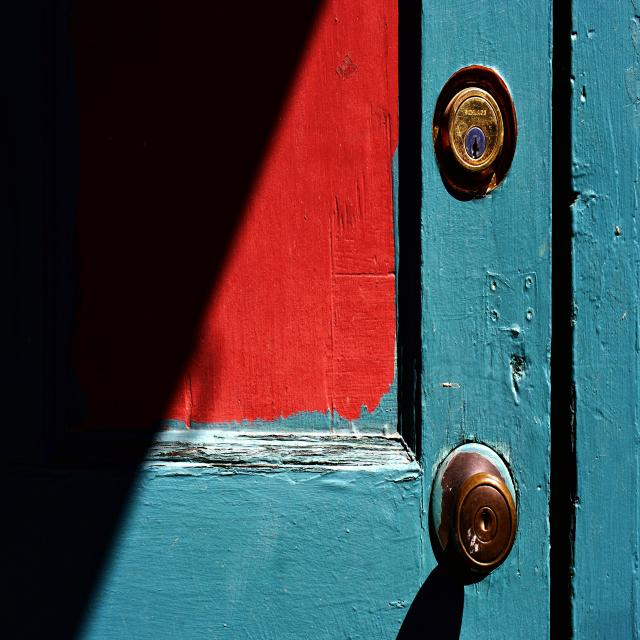door-knob: (430, 443, 519, 586)
